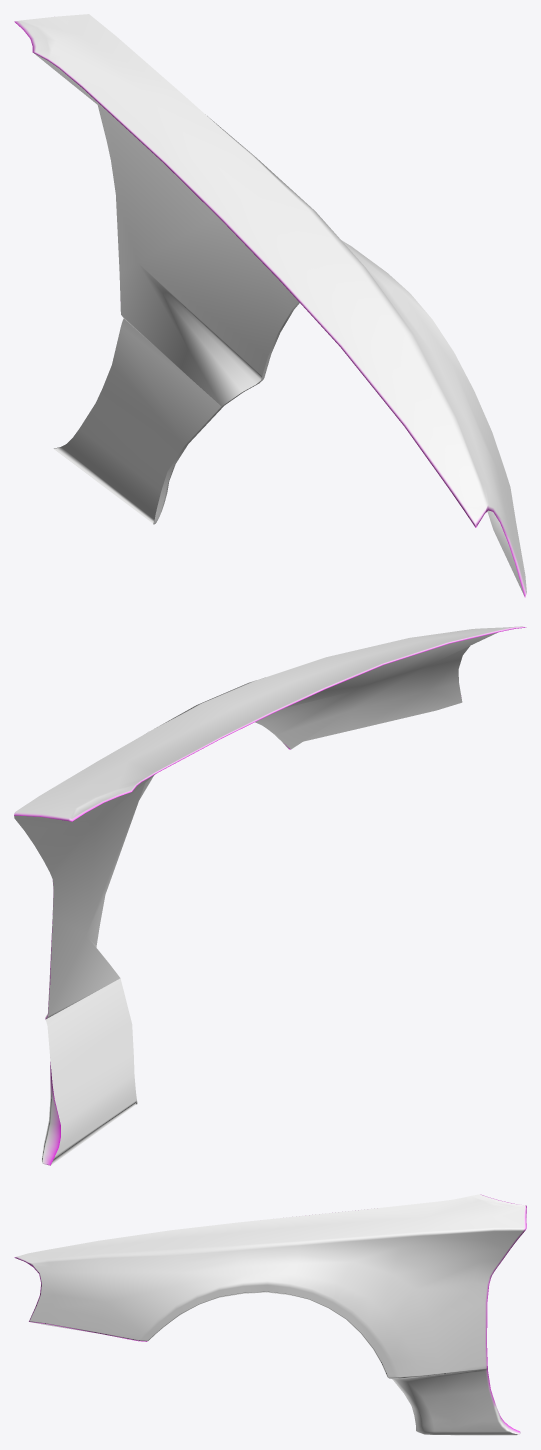
File: Car_Nissan_SkylineGTRVspecR34_1999_FenderFL_SetF.fbx
3 views of the same model, one above another, from view 1: azimuth 30°, elevation 25°; view 2: azimuth 150°, elevation 25°; view 3: azimuth 270°, elevation 25° (orthographic). The views are drawn at different scales.
Parts seen in each view (by area): view 1: FenderFL 6; view 2: FenderFL 6; view 3: FenderFL 6.
Part boxes in pixels (x1=…): FenderFL 6: x1=14, y1=14, x2=526, y2=597; FenderFL 6: x1=14, y1=626, x2=526, y2=1165; FenderFL 6: x1=14, y1=1194, x2=526, y2=1435.
Size of the model in its own units: 0.2415 by 0.6197 by 1.29.
